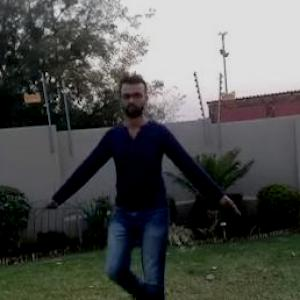land: (47, 78, 234, 299)
